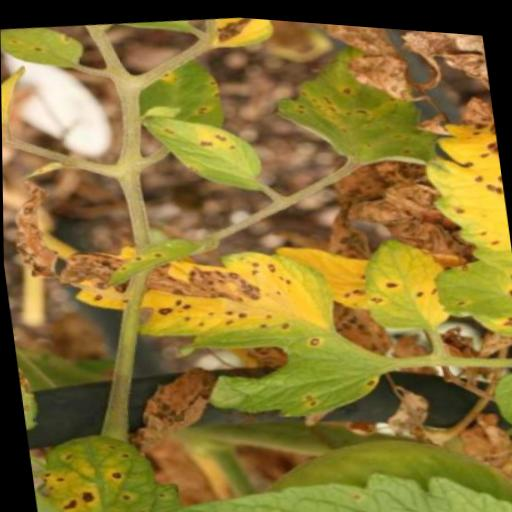Septoria: (4, 138, 404, 452), (403, 78, 512, 347), (266, 24, 446, 179), (25, 420, 186, 512), (345, 222, 465, 339), (135, 97, 267, 201)
